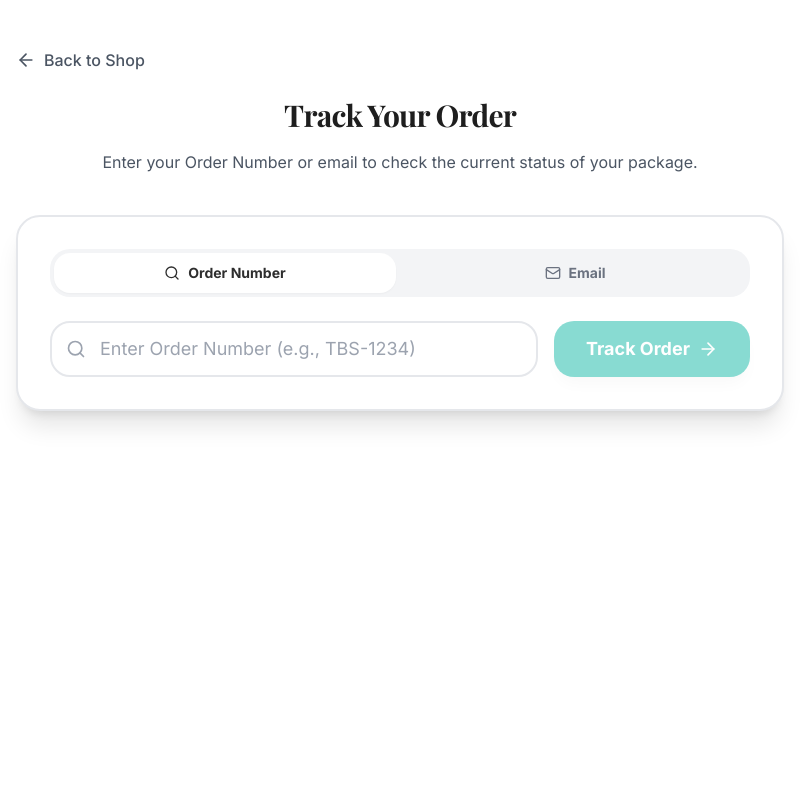
Test: OrderTracking › linked repeat orders › numbers each linked order as Order 1 / Order 2
In the field with placeholder "Enter Order Number (e.g., TBS-1234)": (294, 349) [50,321,538,377], type "TBS-1234"
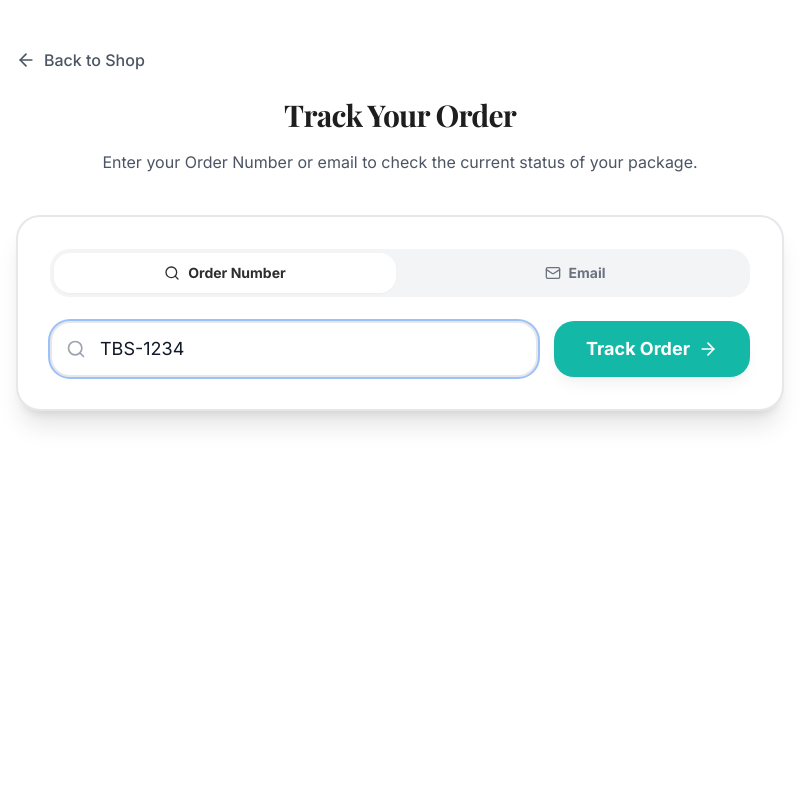
Click the button "Track Order": (652, 349) [554,321,750,377]
(page scrolled)
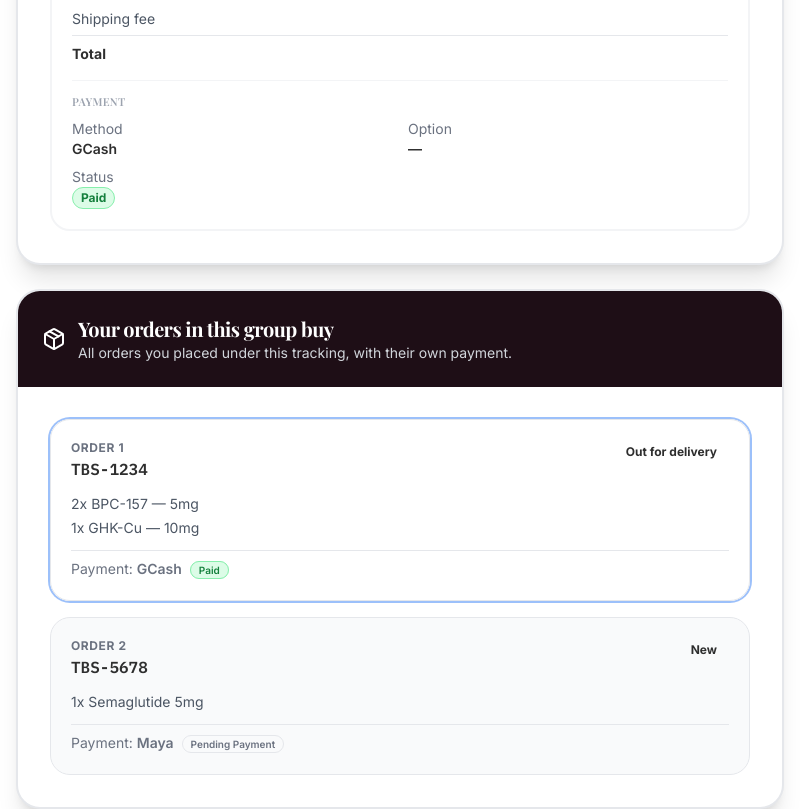
Check: the text "Order 1" is shown, box [71,440,124,455]
Check: the text "Order 2" is shown, box [71,638,127,653]
Check: the text "TBS-5678" is shown, box [71,654,148,680]
